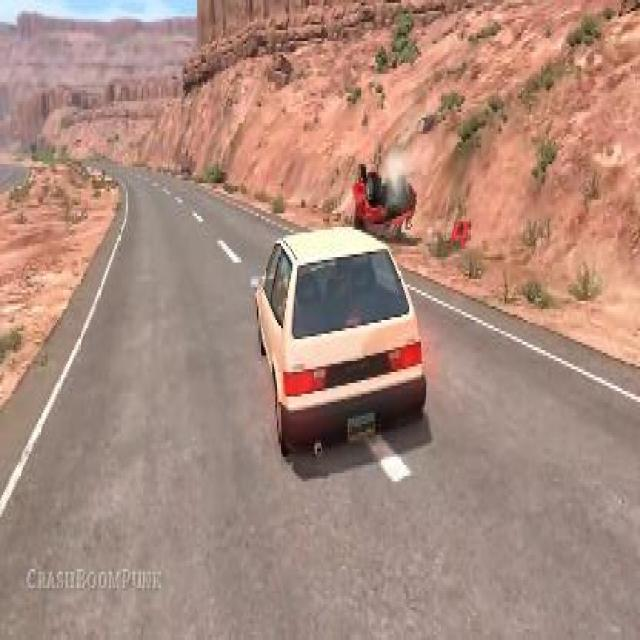accident: (349, 153, 417, 235)
